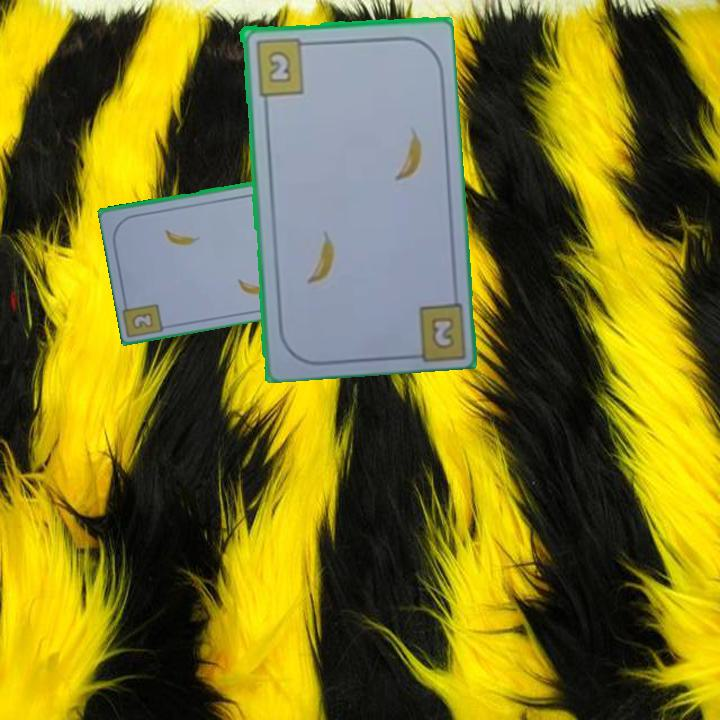2b: (251, 34, 313, 98), (430, 316, 454, 349), (131, 311, 154, 330)
